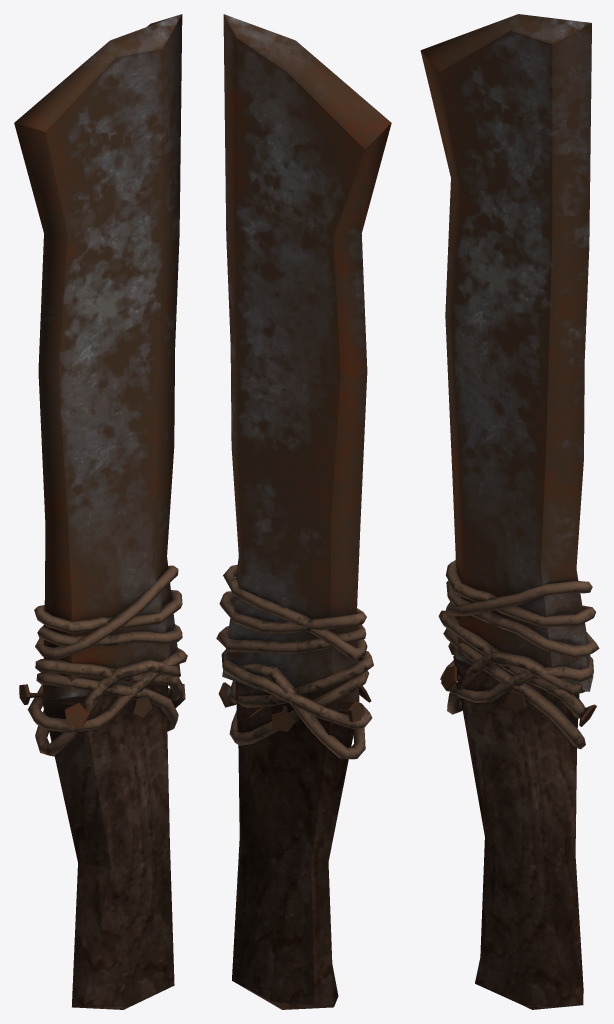
The model's file is OrcWeapon.fbx.
The picture shows the model from 3 angles, left to right: view 1: azimuth 30°, elevation 25°; view 2: azimuth 150°, elevation 25°; view 3: azimuth 330°, elevation 25°; orthographic projection. The views are drawn at different scales.
Parts seen in each view (by area): view 1: orc_blunt; view 2: orc_blunt; view 3: orc_blunt.
Part boxes in pixels (left/top/right/bottom): orc_blunt: left=14, top=14, right=187, bottom=1009; orc_blunt: left=216, top=14, right=391, bottom=1009; orc_blunt: left=420, top=14, right=599, bottom=1009.
Bounding box in the file's own units: 19.71 × 109 × 12.04.
